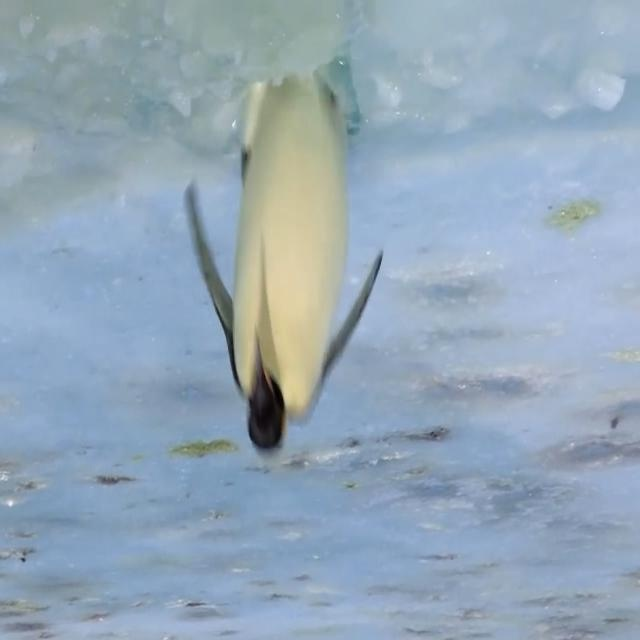penguin: (183, 71, 384, 452)
